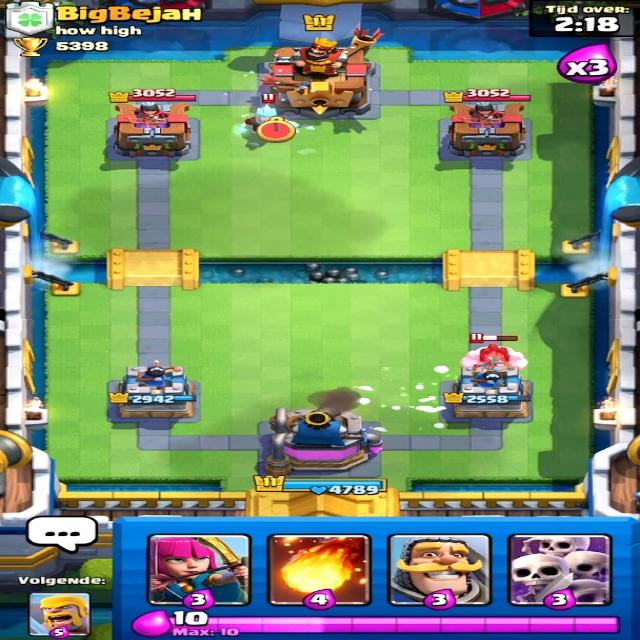Enemy_Ice_Golem_Troop: (458, 343, 530, 372)
Fireball_Card: (266, 533, 372, 608)
